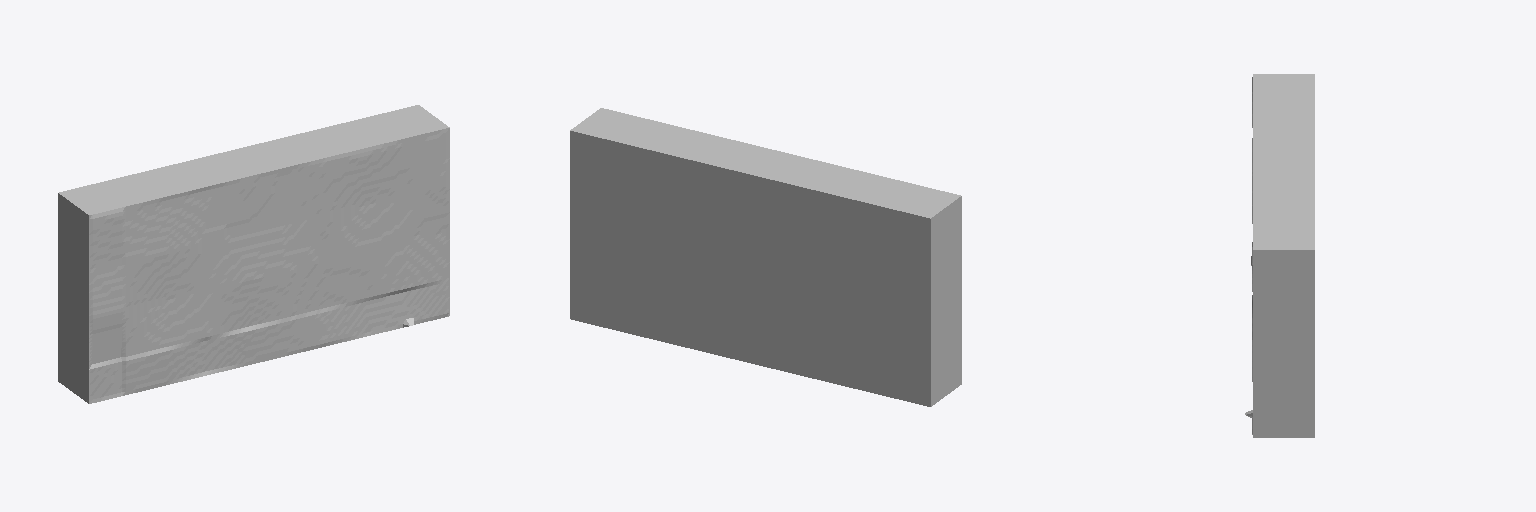
Rendered from rectangular_prism_bumps_4_4.obj.
The picture shows the model from 3 angles: view 1: azimuth 30°, elevation 25°; view 2: azimuth 150°, elevation 25°; view 3: azimuth 270°, elevation 25°; orthographic projection.
Bounding box in the file's own units: 10 × 5 × 1.7.